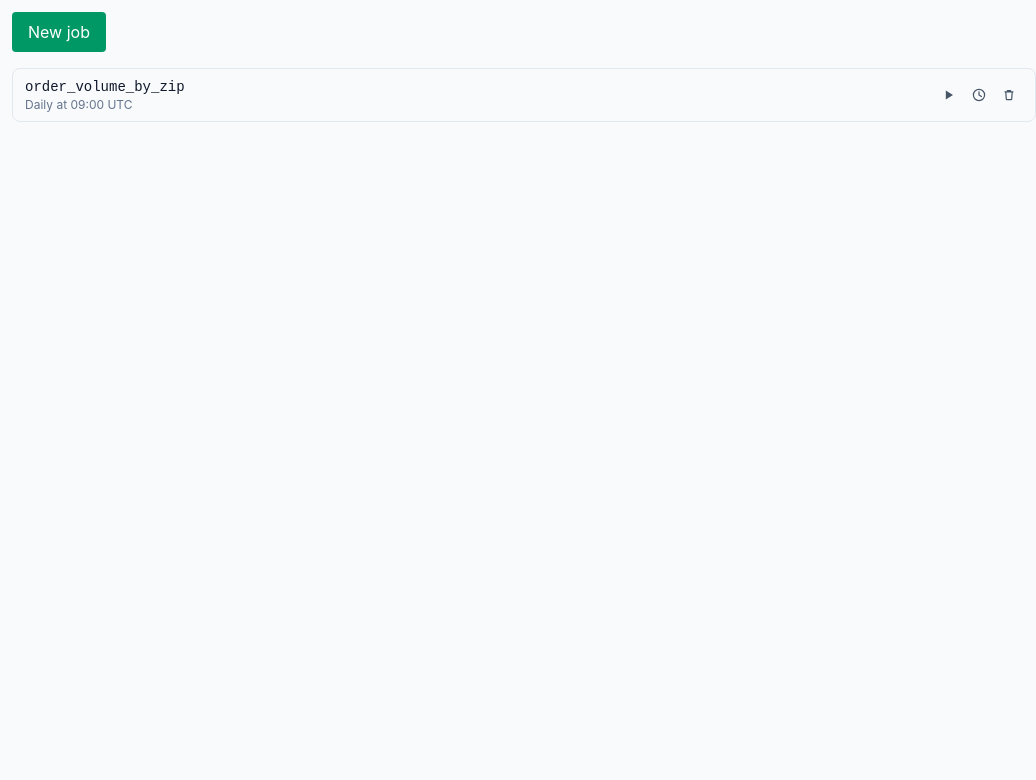
Test: WarehouseJobsPanel › opens the New job form and creates a job
Click the button "New job".
click(59, 32)  # box [12, 12, 106, 52]
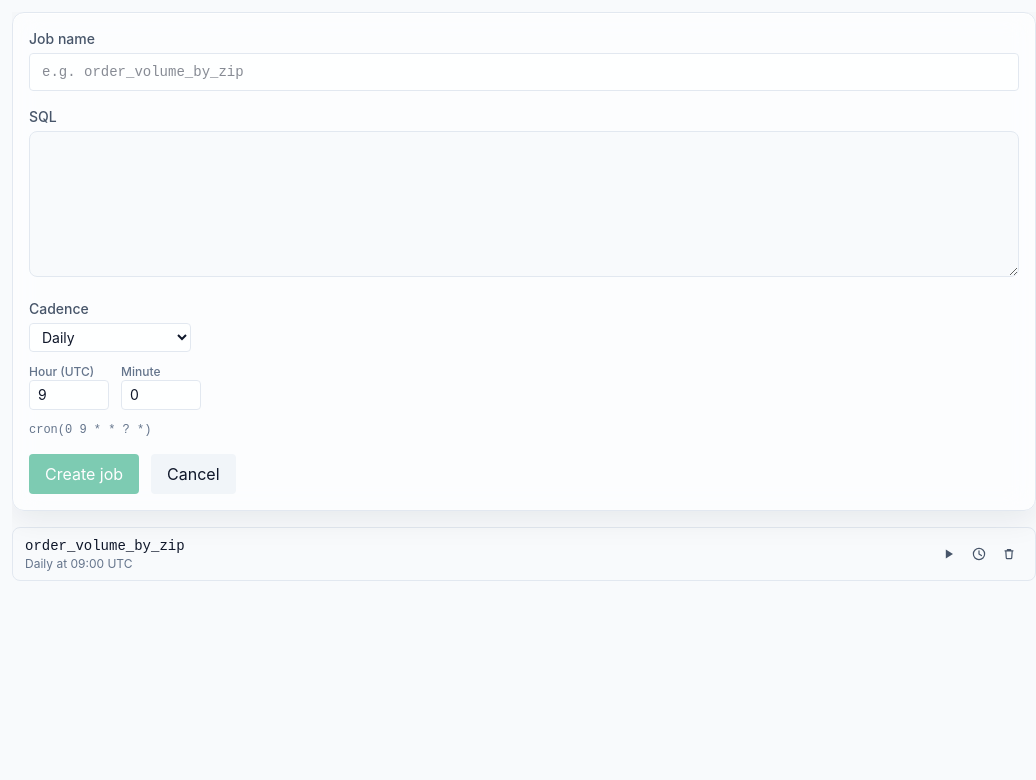
Type "new_job" into the field labelled "Job name".
click(524, 72); type("new_job")  # box [29, 53, 1019, 91]
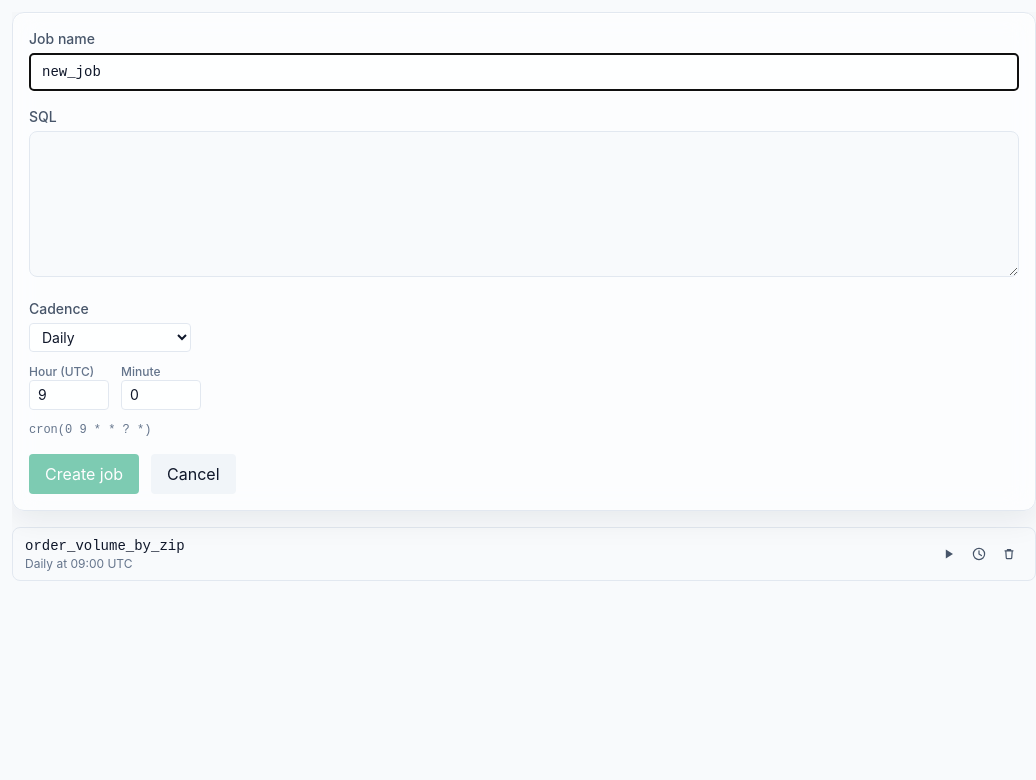
Type "SELECT 1" into the text box labelled "SQL".
click(524, 204); type("SELECT 1")  # box [29, 131, 1019, 277]
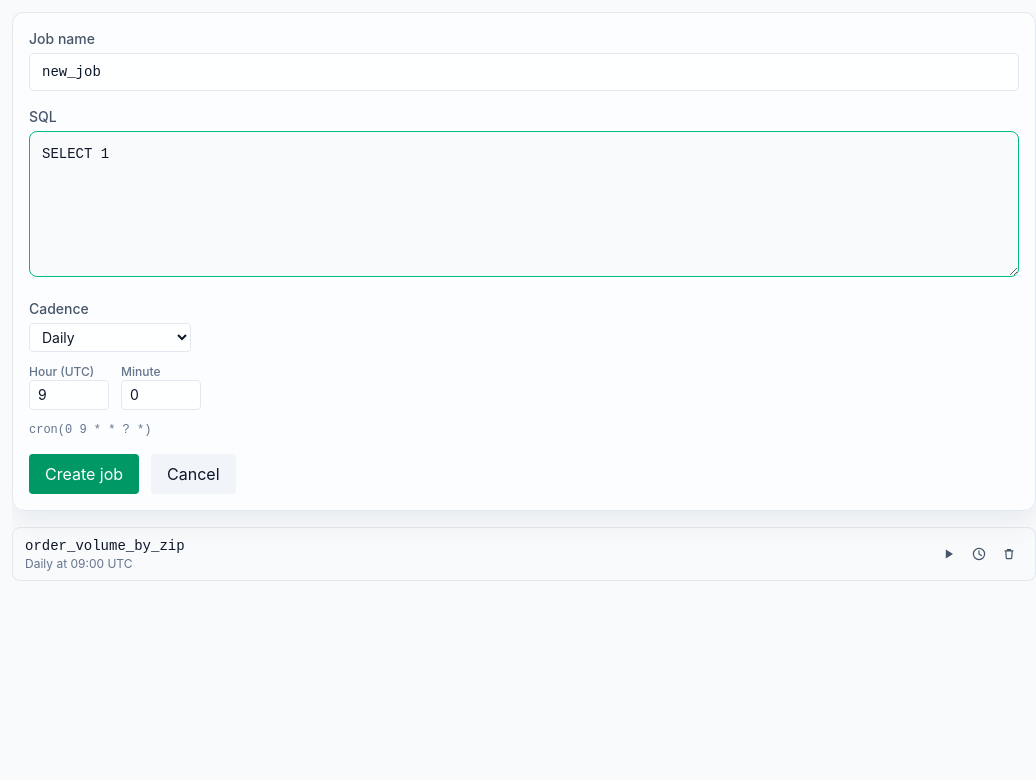
Click the button "Create job".
click(84, 474)  # box [29, 454, 139, 494]
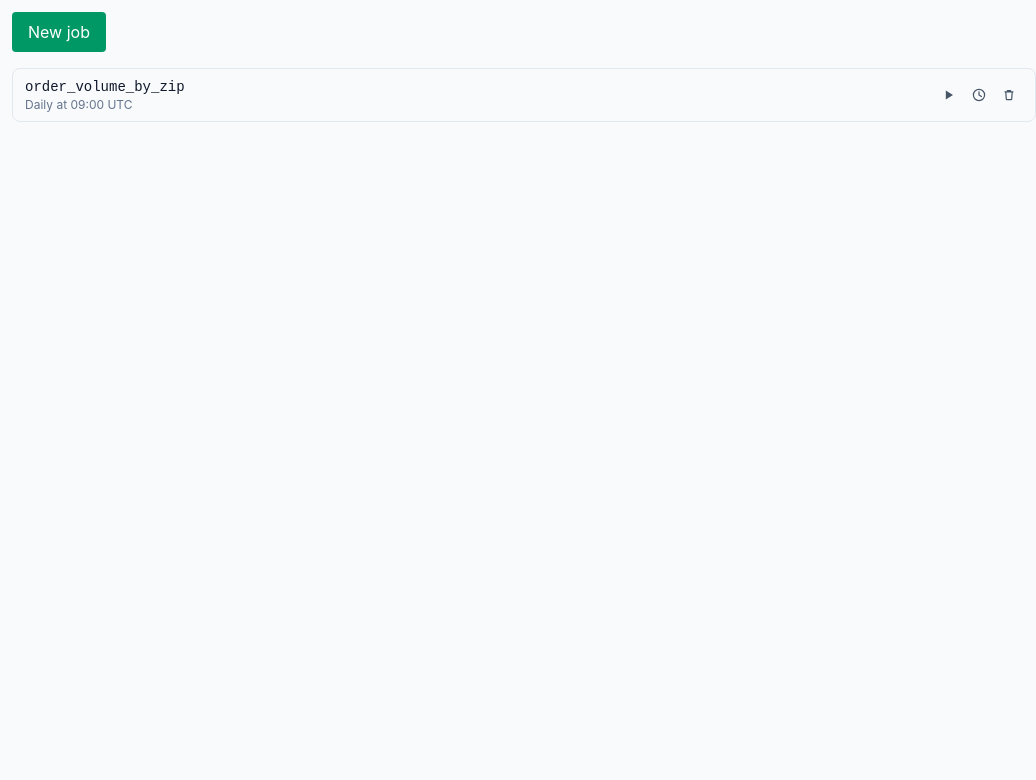
Result: the label labelled "Job name" is gone
